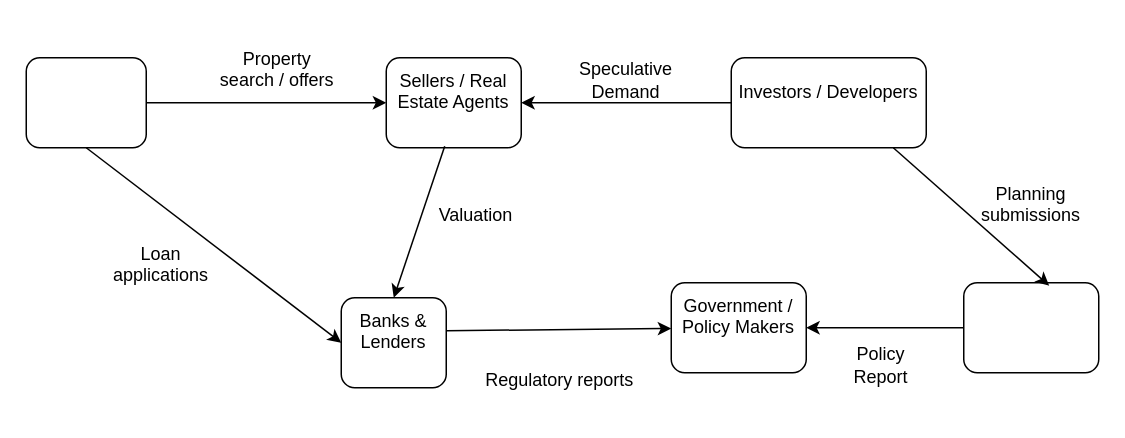
This 1125x438 diagram has some shape labels left out. The shapes that lost their labels are listed below. From the top down, each one's box as (x1, y1, x2, y2) in pixels, then its label:
(25, 56, 146, 148): Home Buyers / Renters
(962, 281, 1099, 373): City Council Planners
